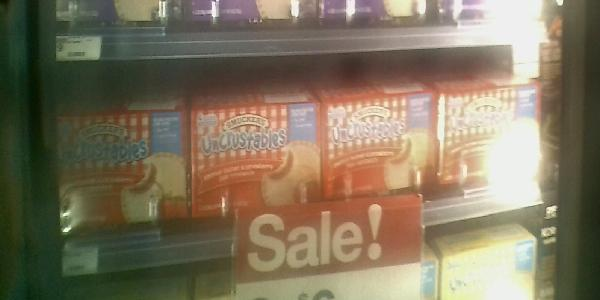icecream: (51, 115, 190, 217), (195, 110, 326, 214), (323, 105, 436, 201), (442, 91, 537, 193)
